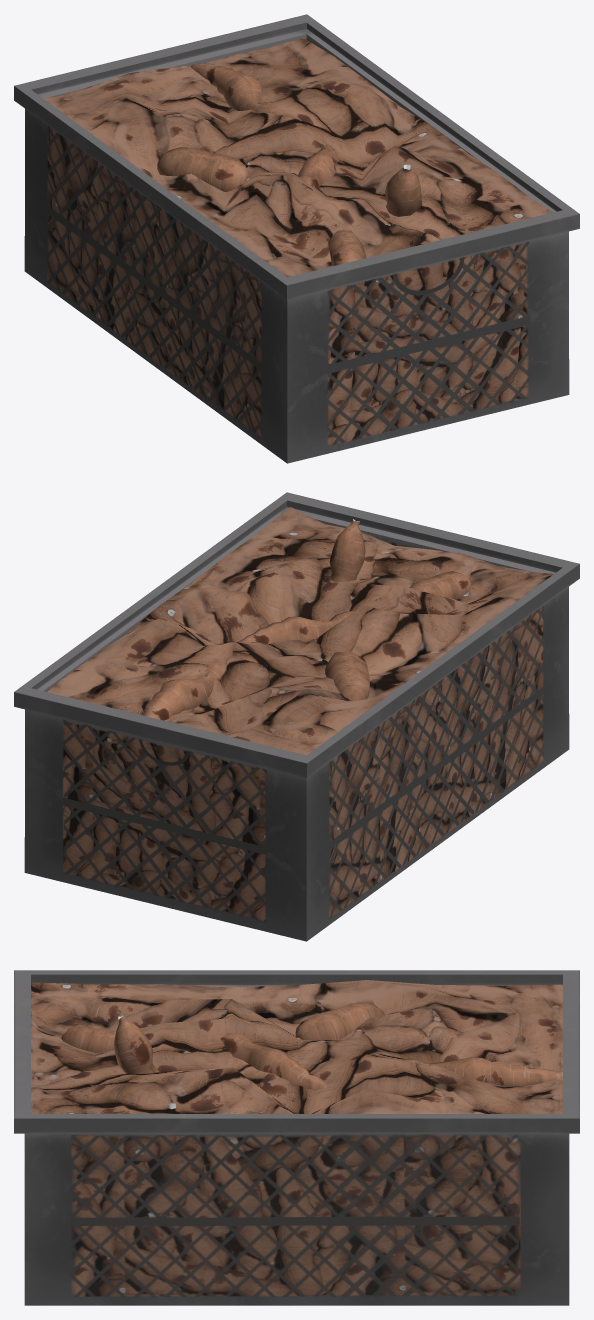
The model's file is caja de yucas.fbx.
3 renders of one model, top to bottom at view 1: azimuth 30°, elevation 25°; view 2: azimuth 150°, elevation 25°; view 3: azimuth 270°, elevation 25°, orthographic. The views are drawn at different scales.
Visible parts, largest first — view 1: Caja de yuca, yucas plano, Plane.003, Plane.005, Plane.001, Plane.004, Plane.002; view 2: Caja de yuca, yucas plano, Plane.005, Plane.004, Plane.003, Plane.001, Plane.002; view 3: Caja de yuca, yucas plano, Plane.004, Plane.005, Plane.003, Plane.001, Plane.002.
Boxes of the visible parts, x1=… form: Caja de yuca: x1=14, y1=14, x2=579, y2=463; yucas plano: x1=43, y1=38, x2=552, y2=277; Plane.003: x1=157, y1=147, x2=249, y2=191; Plane.005: x1=191, y1=64, x2=276, y2=112; Plane.001: x1=385, y1=164, x2=421, y2=216; Plane.004: x1=298, y1=144, x2=338, y2=189; Plane.002: x1=328, y1=230, x2=366, y2=265; Caja de yuca: x1=14, y1=492, x2=579, y2=941; yucas plano: x1=47, y1=507, x2=553, y2=755; Plane.005: x1=143, y1=659, x2=226, y2=720; Plane.004: x1=239, y1=611, x2=354, y2=644; Plane.003: x1=325, y1=651, x2=369, y2=701; Plane.001: x1=329, y1=519, x2=365, y2=582; Plane.002: x1=409, y1=571, x2=471, y2=599; Caja de yuca: x1=14, y1=970, x2=579, y2=1305; yucas plano: x1=31, y1=980, x2=562, y2=1113; Plane.004: x1=220, y1=1032, x2=326, y2=1090; Plane.005: x1=401, y1=1057, x2=562, y2=1086; Plane.003: x1=295, y1=1001, x2=384, y2=1040; Plane.001: x1=114, y1=1014, x2=156, y2=1074; Plane.002: x1=61, y1=1027, x2=115, y2=1052.
Size of the model in its own units: 47 by 34.22 by 75.8.
